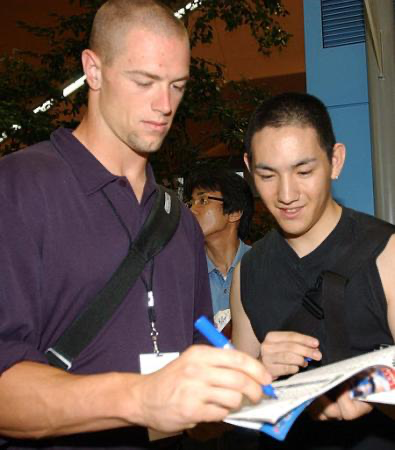Face: (106, 48, 197, 159), (249, 141, 337, 232), (183, 182, 239, 240)
